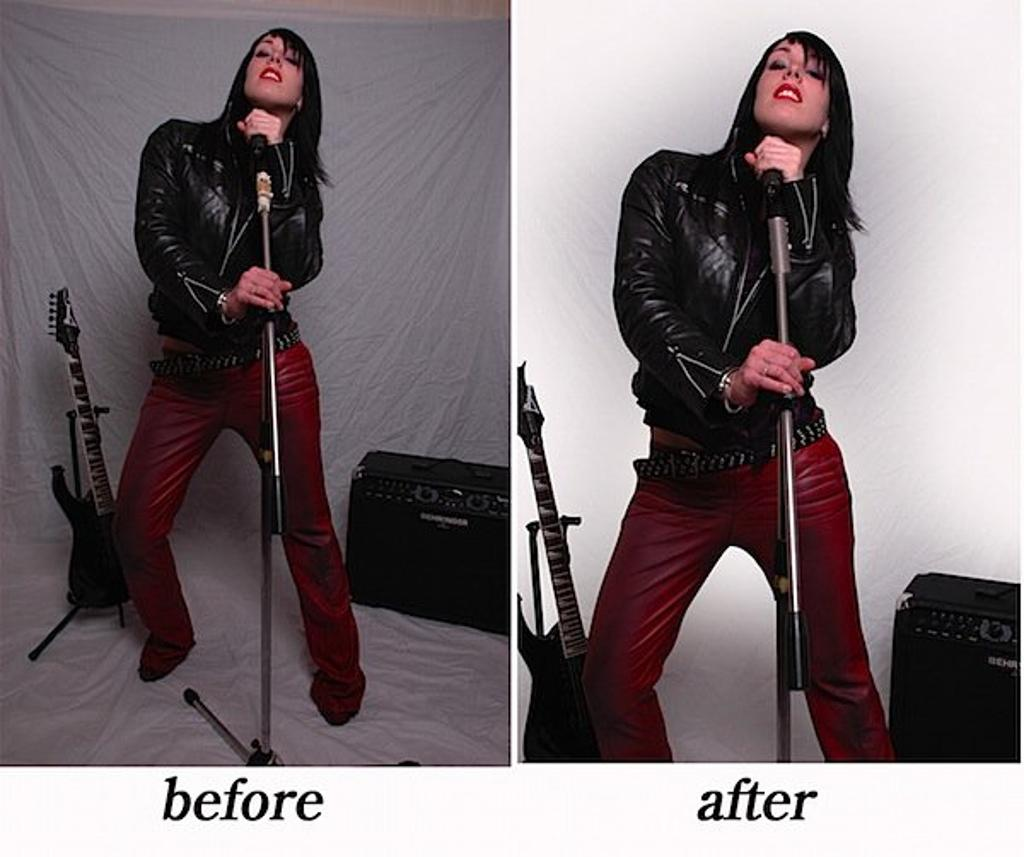face: (758, 34, 832, 142), (246, 30, 314, 112)
